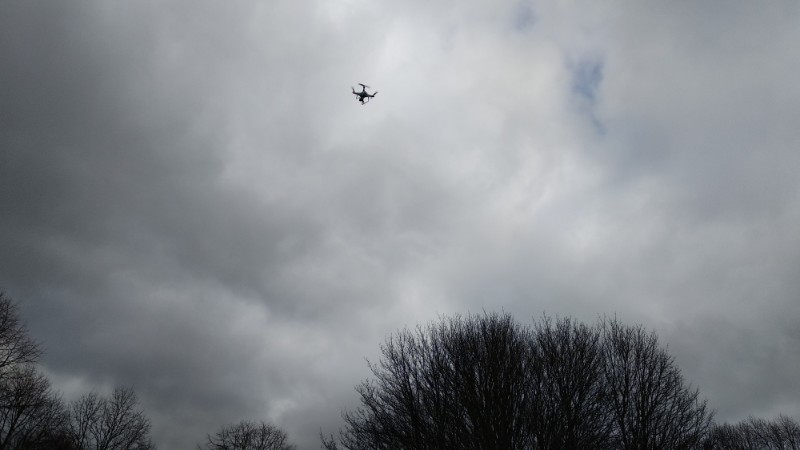drone: (349, 82, 380, 107)
